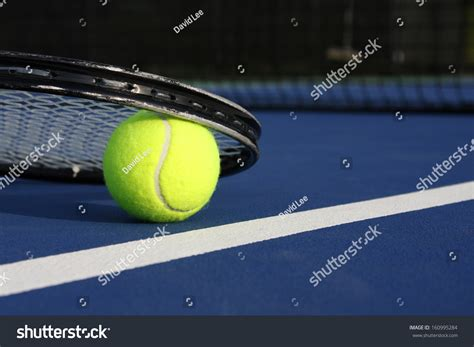tennis_ball: (103, 108, 221, 222)
